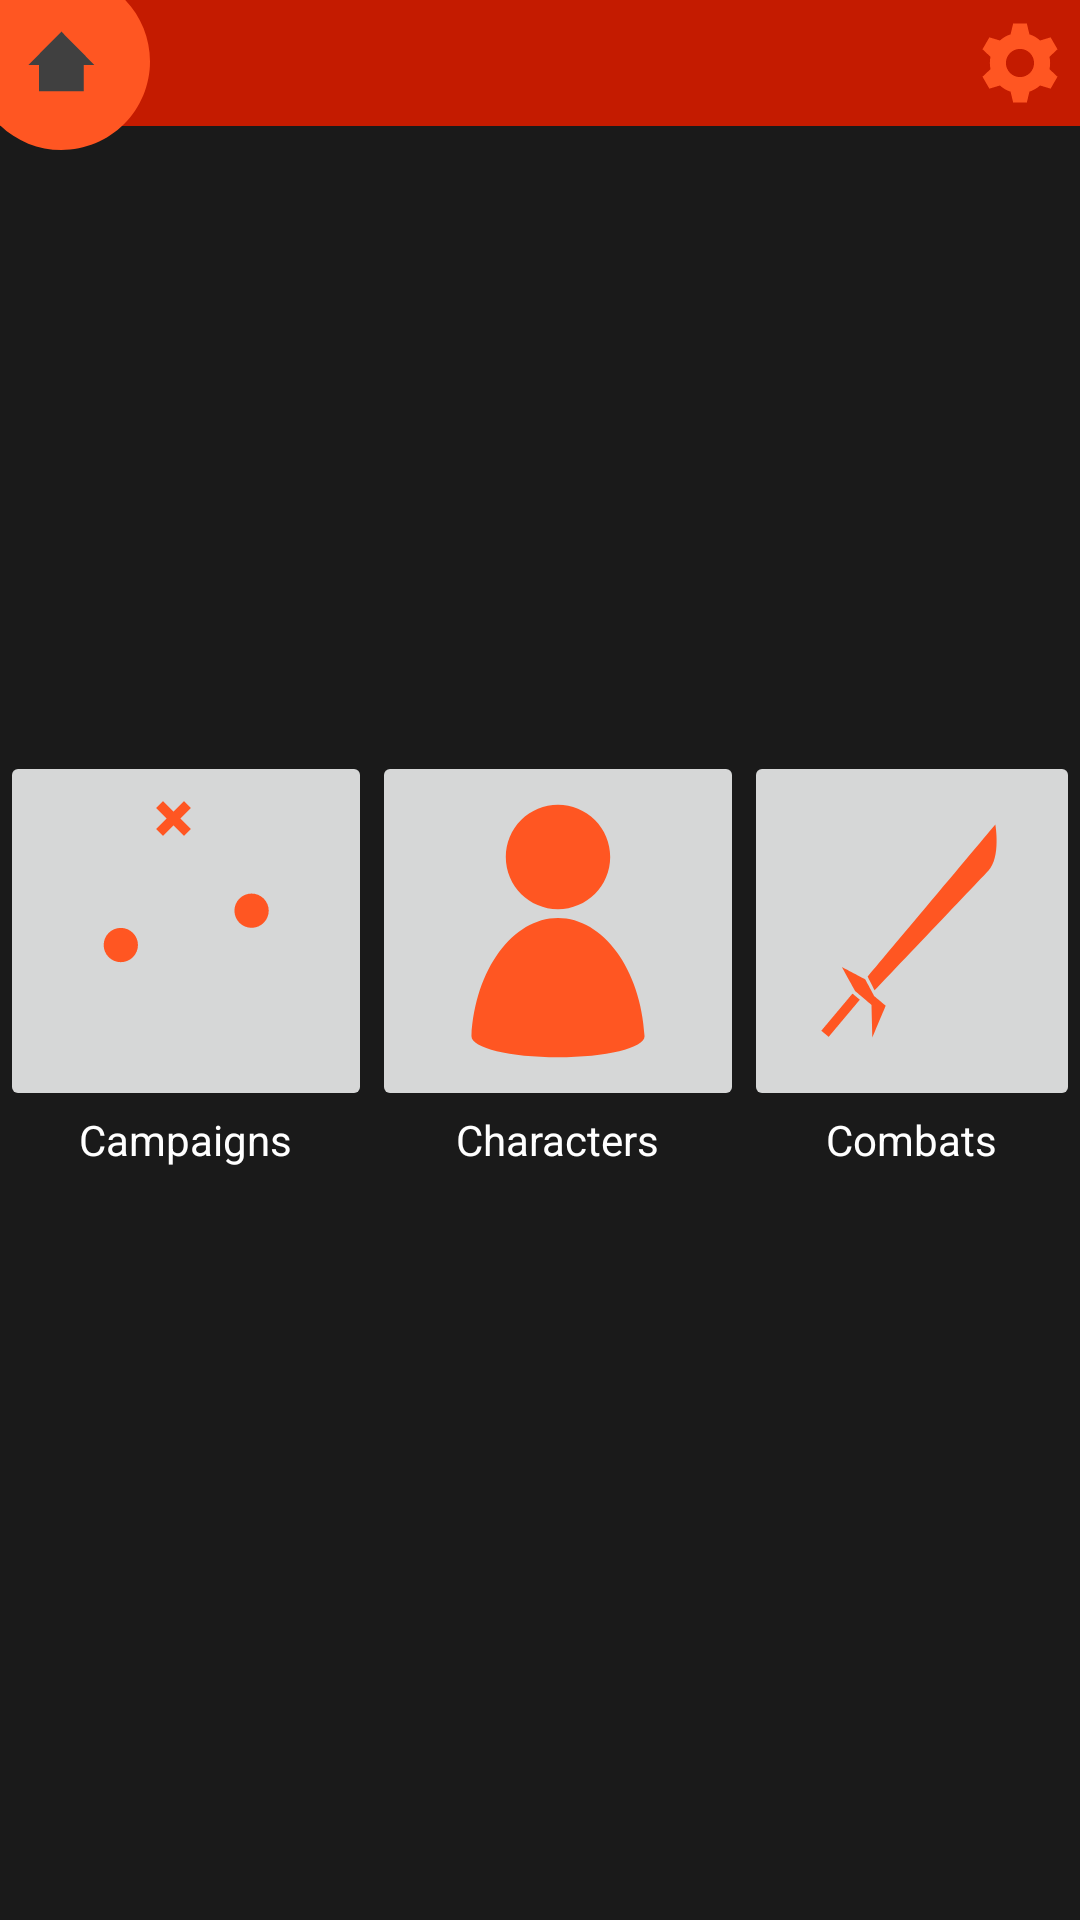

Screen size 1080 × 1920. Icon name, then its center in pixels as [x,y]:
upperbar gear: [1020,63]
upperbar home: [75,75]
